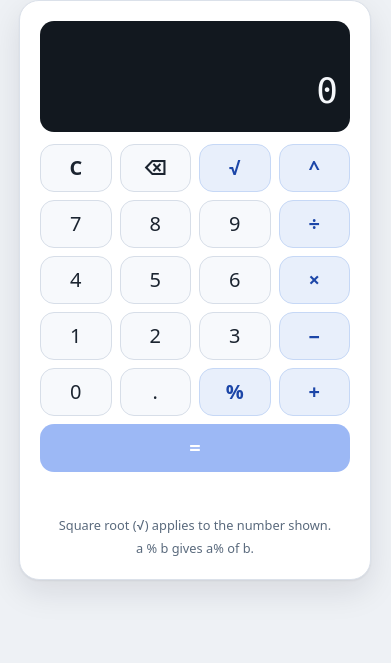
Calculator › explains a division by zero instead of showing a code
Click the button named "One". click: x=76, y=336
box: x1=40 y1=312 x2=112 y2=360
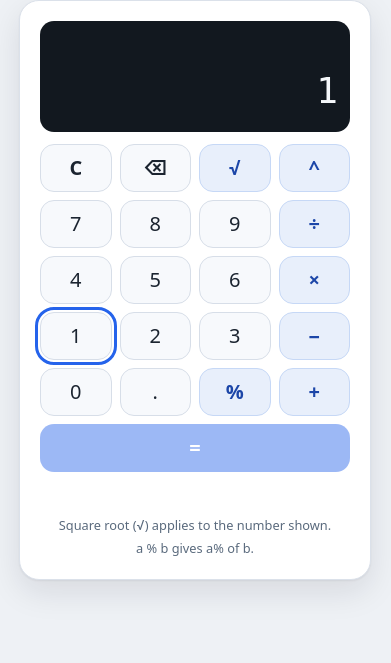
Click the button named "Zero". click: x=76, y=392
box: x1=40 y1=368 x2=112 y2=416
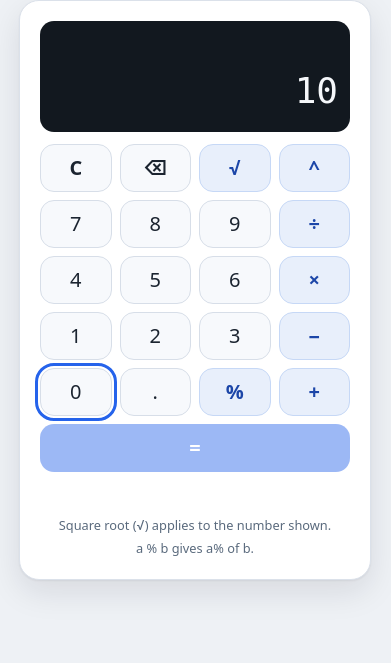
Click the button named "Divide". click: x=314, y=224
box: x1=278 y1=200 x2=350 y2=248
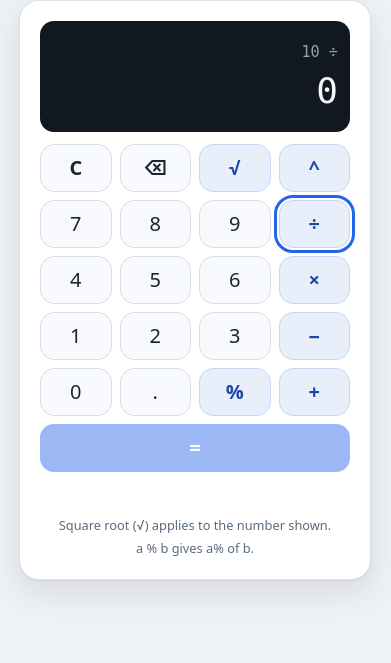
Click the button named "Zero". click: x=76, y=392
box: x1=40 y1=368 x2=112 y2=416
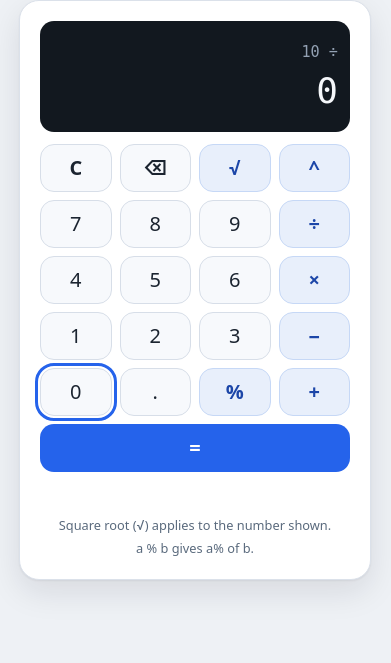
Click the button named "Equals". click: x=195, y=448
box: x1=40 y1=424 x2=350 y2=472
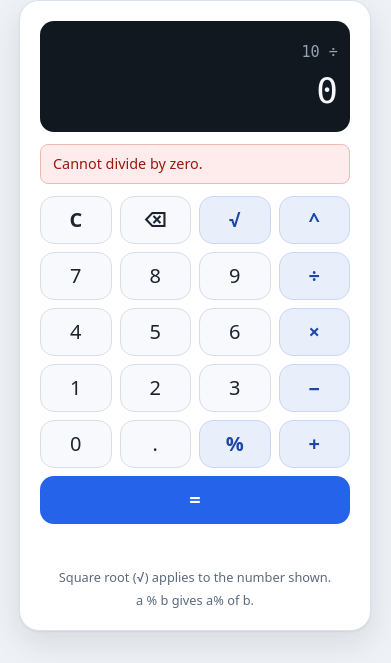
Result: the message reads "Cannot divide by zero." at x1=53 y1=154 x2=203 y2=173
